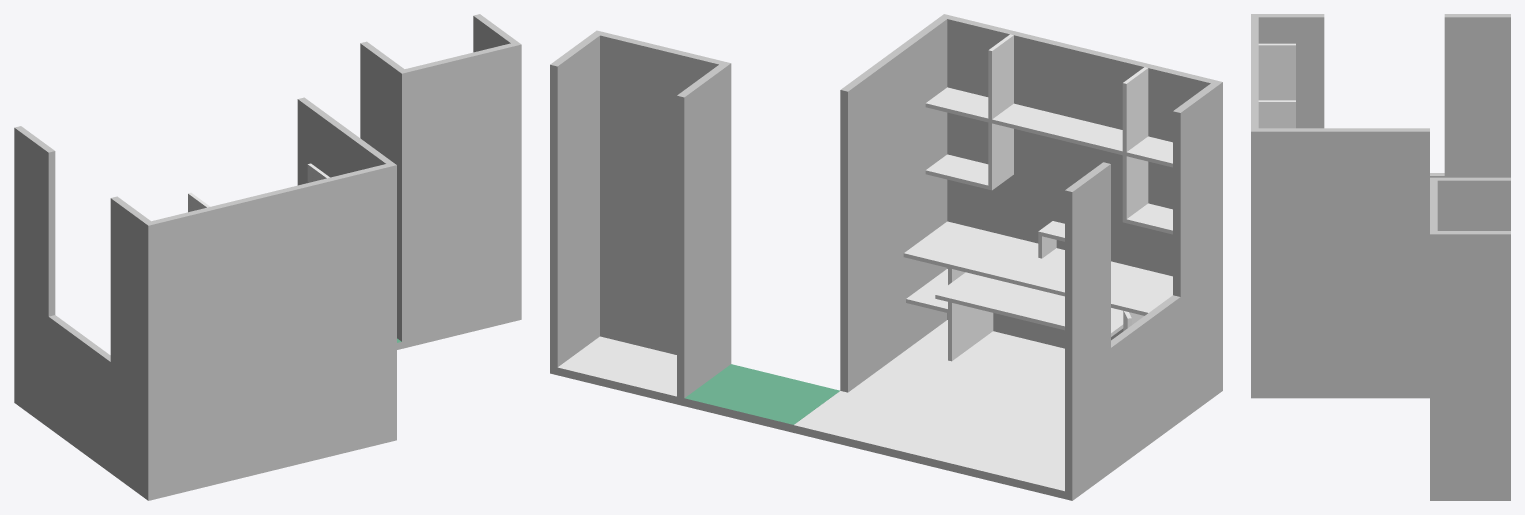
The picture shows the model from 3 angles, left to right: view 1: azimuth 30°, elevation 25°; view 2: azimuth 150°, elevation 25°; view 3: azimuth 270°, elevation 25°; orthographic projection. The views are drawn at different scales.
Parts seen in each view (by area): view 1: DISTRIBUCION TABLAS; view 2: DISTRIBUCION TABLAS; view 3: DISTRIBUCION TABLAS.
Part boxes in pixels (x1,y1,x2,y2): DISTRIBUCION TABLAS: [14, 14, 521, 500]; DISTRIBUCION TABLAS: [550, 14, 1222, 500]; DISTRIBUCION TABLAS: [1251, 14, 1510, 500].
Size of the model in its own units: 6.99 by 3.95 by 3.49.
